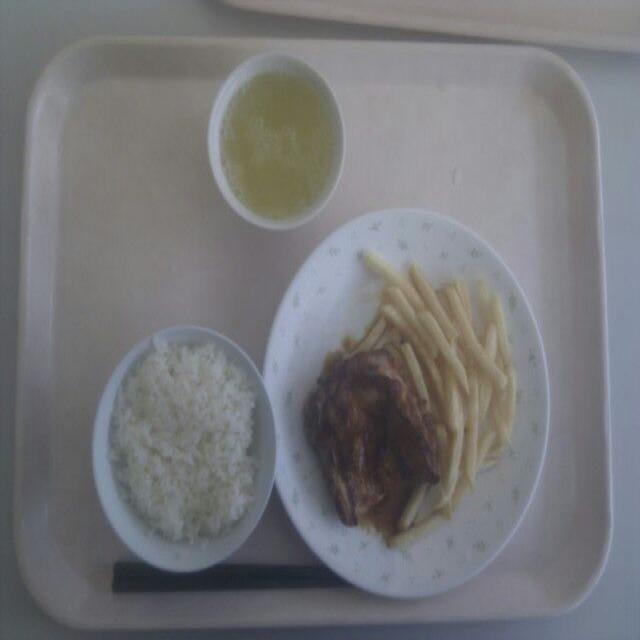炸货点心: (334, 240, 528, 549)
米饭主食: (80, 331, 274, 573)
